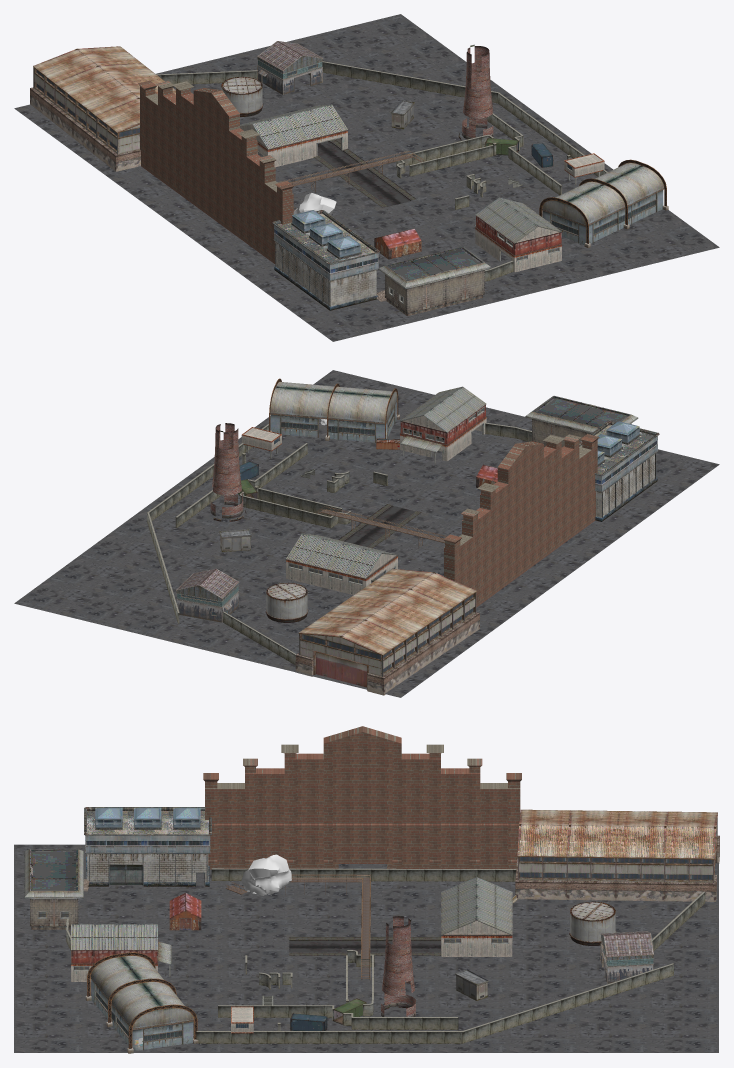
The model's file is map.glb.
The picture shows the model from 3 angles, top to bottom: view 1: azimuth 30°, elevation 25°; view 2: azimuth 150°, elevation 25°; view 3: azimuth 270°, elevation 25°; orthographic projection. The views are drawn at different scales.
Parts seen in each view (by area): view 1: Alphalt_Floor, otz, Building_10.001, Building_1.001, Building_8, Building_4.001, Building_6.001, Building_3.001, Building_2.001, Cooling_tower, Wall.001, Wall.010 (+11 smaller); view 2: Alphalt_Floor, otz, Building_10.001, Building_8, Building_1.001, Building_3.001, Building_6.001, Building_4.001, Building_2.001, Cooling_tower, Wall.001, Liquid_reservoir_1.001 (+9 smaller); view 3: Alphalt_Floor, otz, Building_10.001, Building_1.001, Building_8, Building_3.001, Building_4.001, Building_6.001, Wall.003, Wall.012, Wall.010, Cooling_tower (+13 smaller).
Boxes of the visible parts, box(x1,y1,x2,y2) form: Alphalt_Floor: box(14, 14, 719, 341); otz: box(138, 80, 293, 263); Building_10.001: box(30, 46, 175, 171); Building_1.001: box(272, 210, 380, 310); Building_8: box(539, 159, 668, 247); Building_4.001: box(378, 246, 491, 315); Building_6.001: box(474, 197, 562, 272); Building_3.001: box(240, 104, 348, 167); Building_2.001: box(257, 41, 323, 94); Cooling_tower: box(458, 44, 493, 140); Wall.001: box(403, 136, 493, 176); Wall.010: box(322, 61, 499, 103); Alphalt_Floor: box(14, 370, 719, 697); otz: box(443, 434, 599, 607); Building_10.001: box(295, 568, 479, 695); Building_8: box(269, 378, 399, 442); Building_1.001: box(579, 421, 659, 521); Building_3.001: box(285, 533, 398, 594); Building_6.001: box(399, 386, 486, 463); Building_4.001: box(525, 395, 638, 447); Building_2.001: box(176, 568, 239, 622); Cooling_tower: box(210, 423, 246, 521); Wall.001: box(246, 488, 342, 527); Liquid_reservoir_1.001: box(265, 582, 308, 622); Alphalt_Floor: box(14, 844, 718, 1052); otz: box(203, 726, 521, 869); Building_10.001: box(515, 809, 719, 901); Building_1.001: box(84, 807, 211, 886); Building_8: box(85, 952, 198, 1053); Building_3.001: box(441, 877, 512, 956); Building_4.001: box(24, 849, 83, 929); Building_6.001: box(71, 924, 171, 981); Wall.003: box(196, 1031, 461, 1043); Wall.012: box(211, 868, 516, 881); Wall.010: box(461, 963, 674, 1043); Cooling_tower: box(381, 916, 415, 1016).
Size of the model in its own units: 112 by 36.23 by 160.
56 materials, 56 textured.
